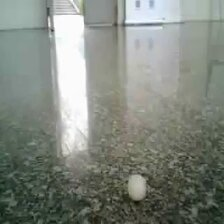w: (126, 173, 150, 202)
